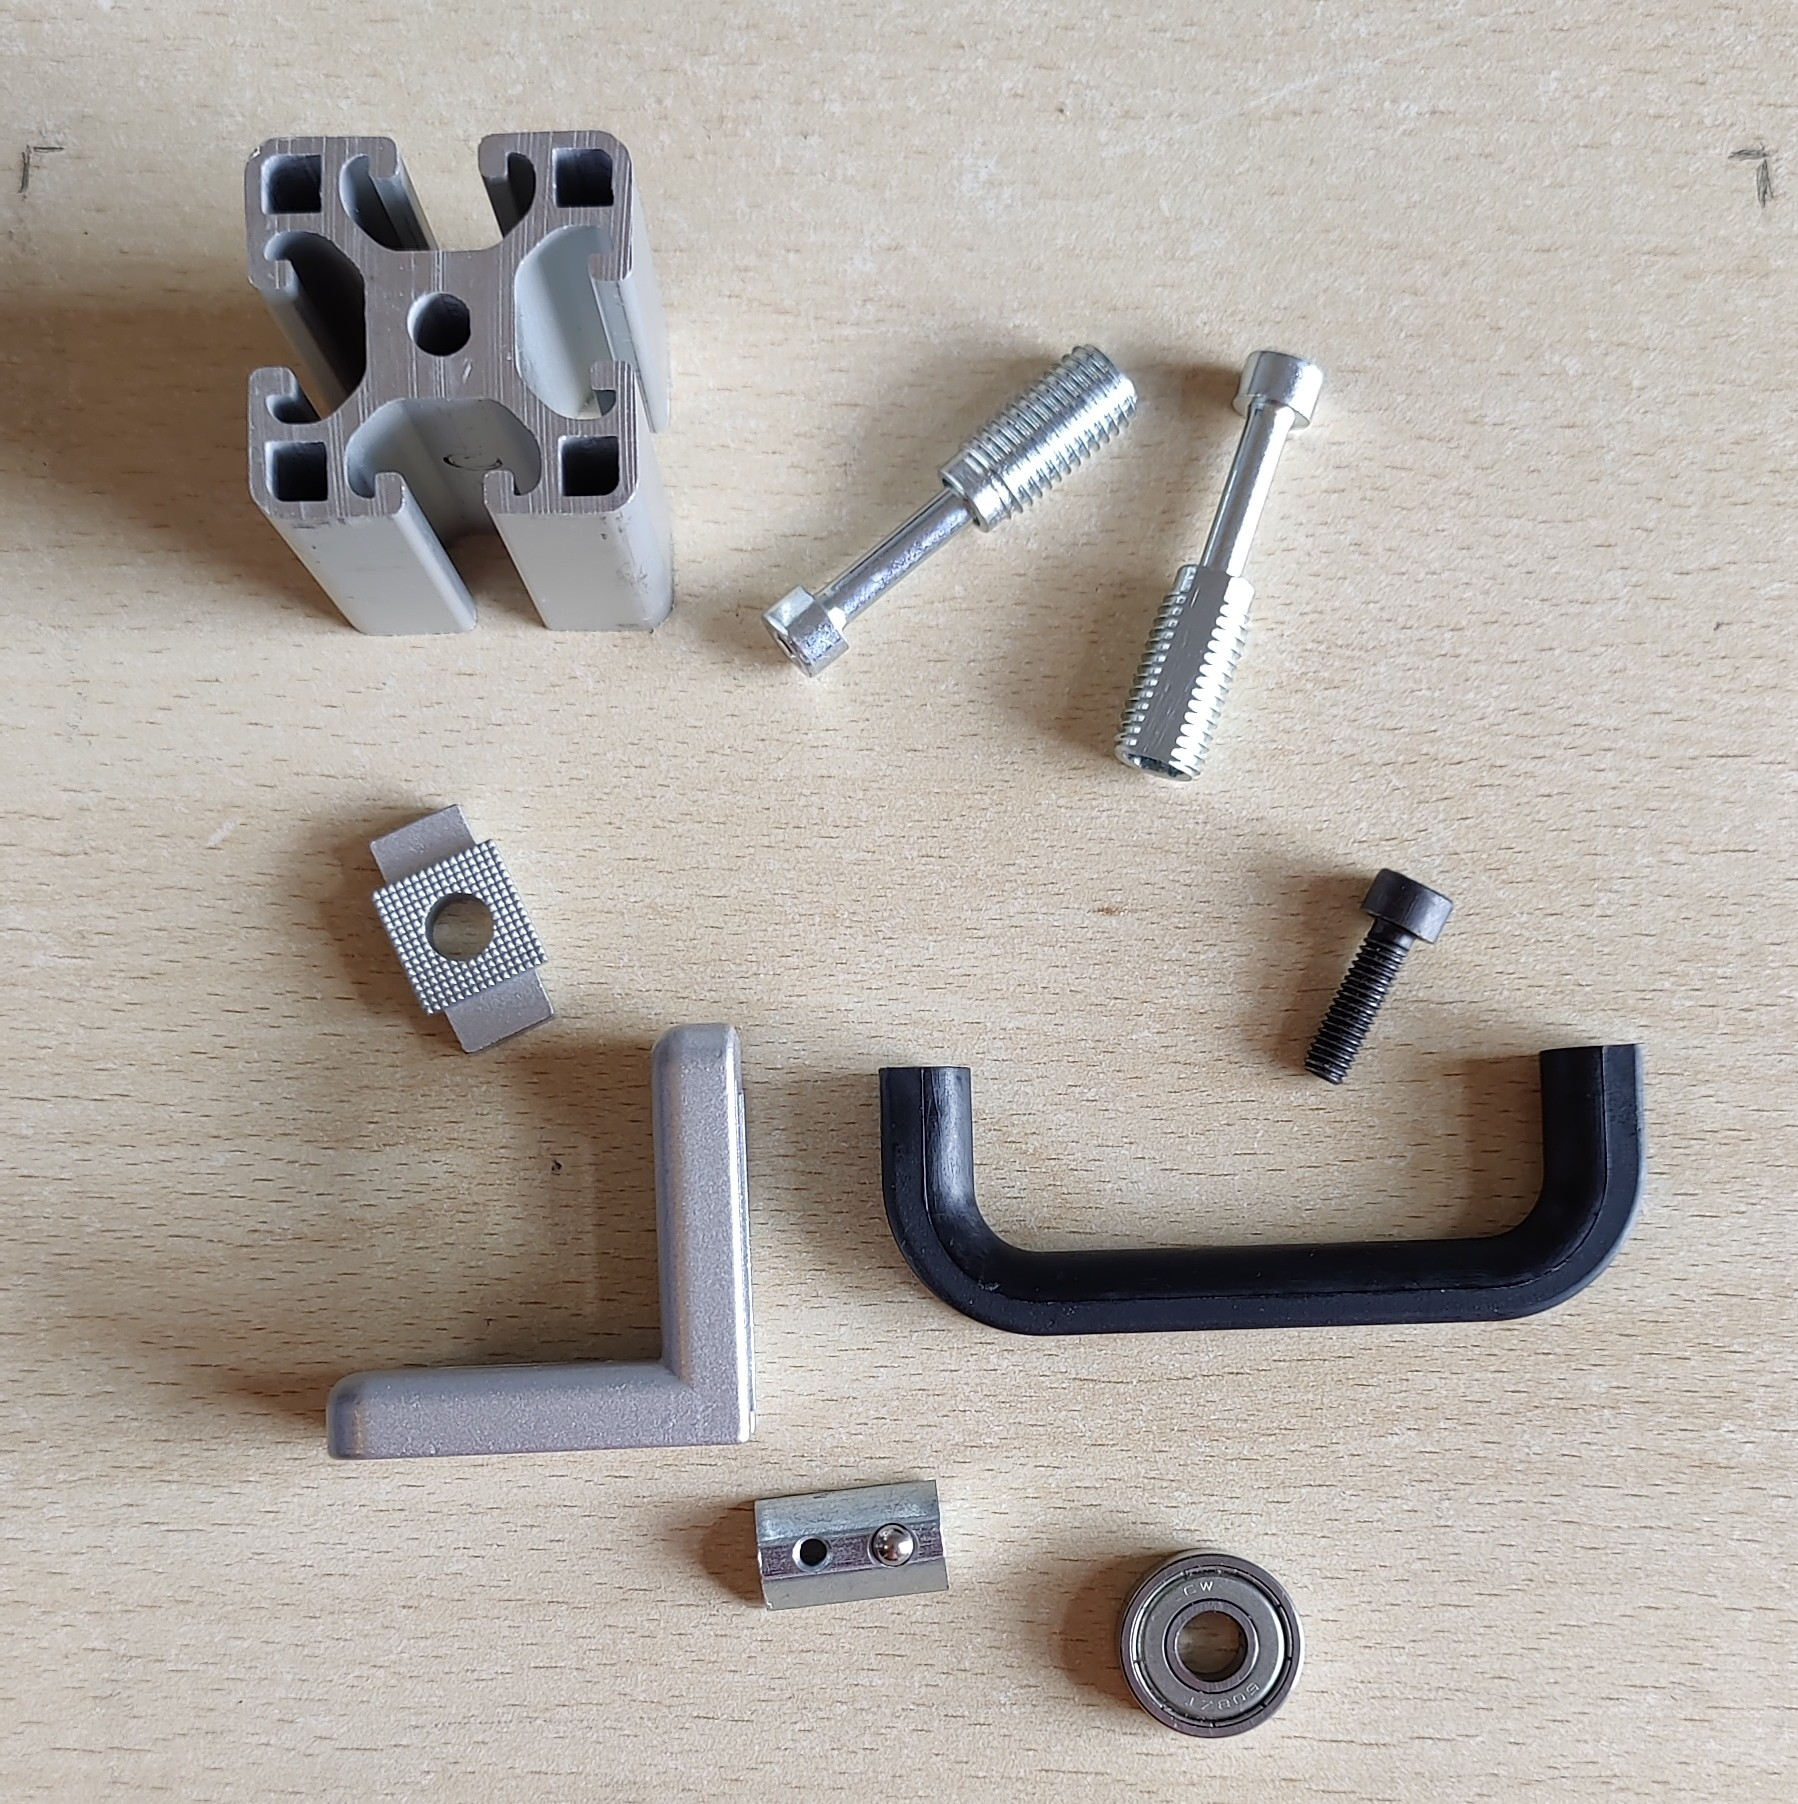Aluminium Extension: (240, 127, 677, 639)
Ball Bearing: (1111, 1546, 1304, 1741)
Multiwinkel: (321, 1019, 762, 1463)
Pull Handle: (876, 1037, 1648, 1340)
Shoulder Socket Head Cap Screw: (757, 337, 1141, 681), (1106, 347, 1329, 783)
Socket Head Cap Screw: (1299, 859, 1459, 1091)
T Nut Square: (366, 798, 560, 1057)
T Spring Nut: (751, 1476, 952, 1615)
